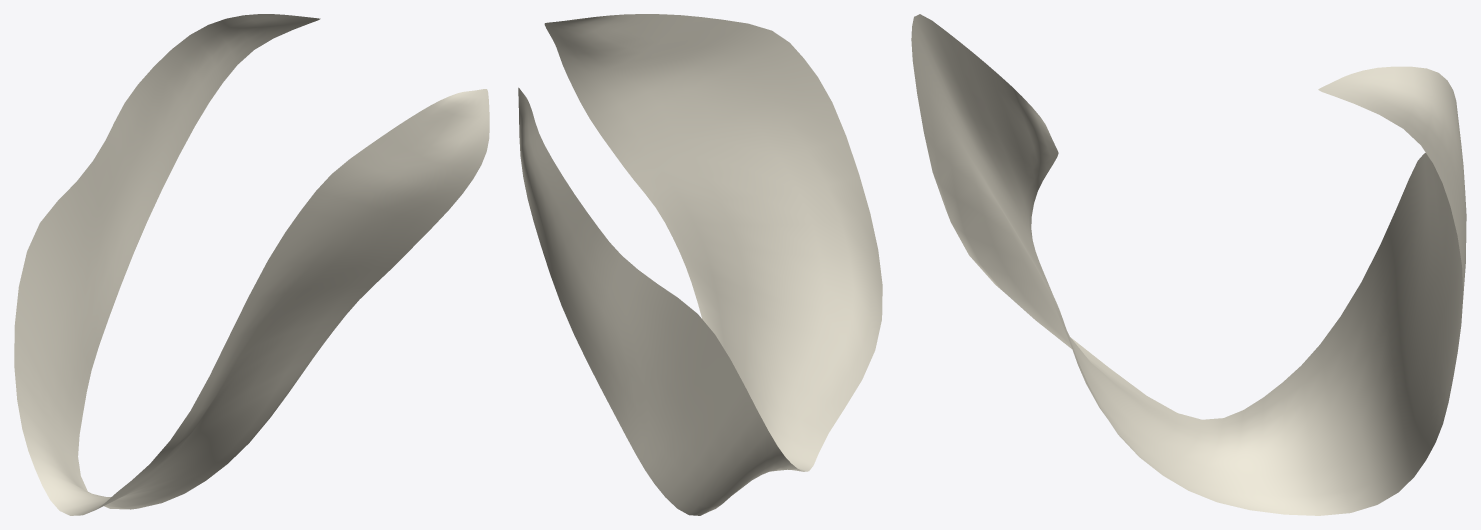
3 renders of one model, left to right at view 1: azimuth 30°, elevation 25°; view 2: azimuth 150°, elevation 25°; view 3: azimuth 270°, elevation 25°, orthographic. The views are drawn at different scales.
Parts seen in each view (by area): view 1: ZA_5c815b2da5404a55; view 2: ZA_5c815b2da5404a55; view 3: ZA_5c815b2da5404a55.
Boxes of the visible parts, x1,y1,x2,y2 form: ZA_5c815b2da5404a55: (14,14,489,515); ZA_5c815b2da5404a55: (518,14,882,515); ZA_5c815b2da5404a55: (911,14,1466,515).
Bounding box in the file's own units: 0.0371 × 0.0416 × 0.0367.
